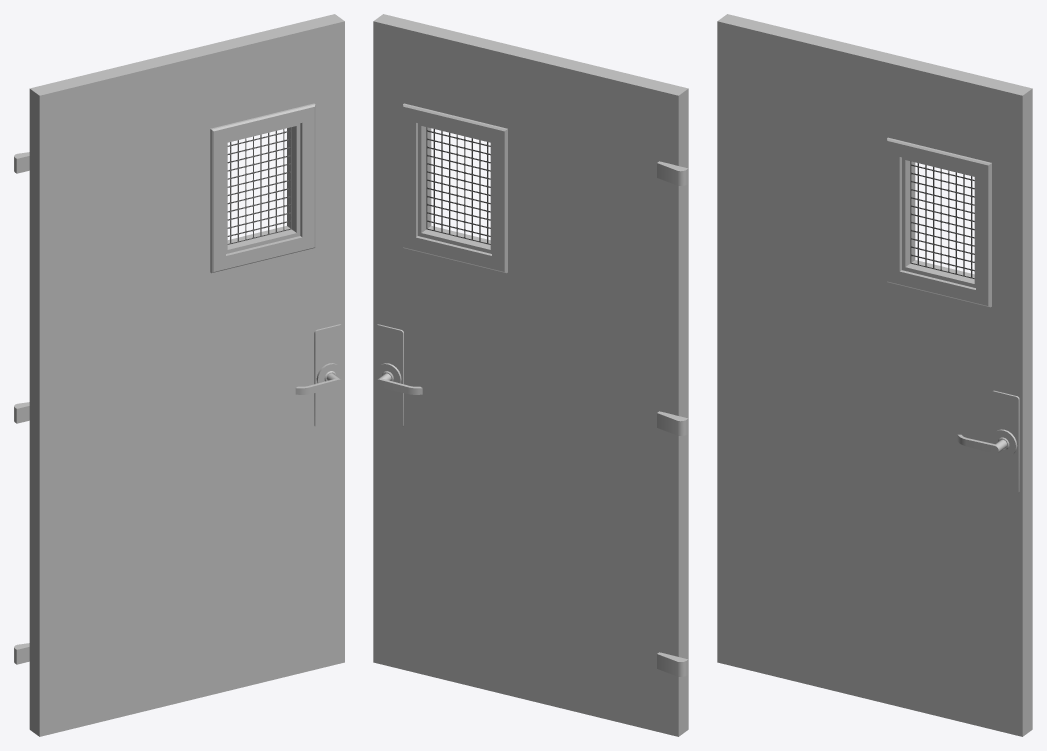
The model's file is SM_Door_double_b.fbx.
The picture shows the model from 3 angles, left to right: view 1: azimuth 30°, elevation 25°; view 2: azimuth 150°, elevation 25°; view 3: azimuth 330°, elevation 25°; orthographic projection.
Parts seen in each view (by area): view 1: SM_Door_double_b_LOD0; view 2: SM_Door_double_b_LOD0; view 3: SM_Door_double_b_LOD0.
Boxes of the visible parts, bbox=[...] form: SM_Door_double_b_LOD0: bbox=[14, 14, 344, 736]; SM_Door_double_b_LOD0: bbox=[373, 14, 688, 736]; SM_Door_double_b_LOD0: bbox=[717, 14, 1032, 736].
Size of the model in its own units: 110 by 19.13 by 213.
